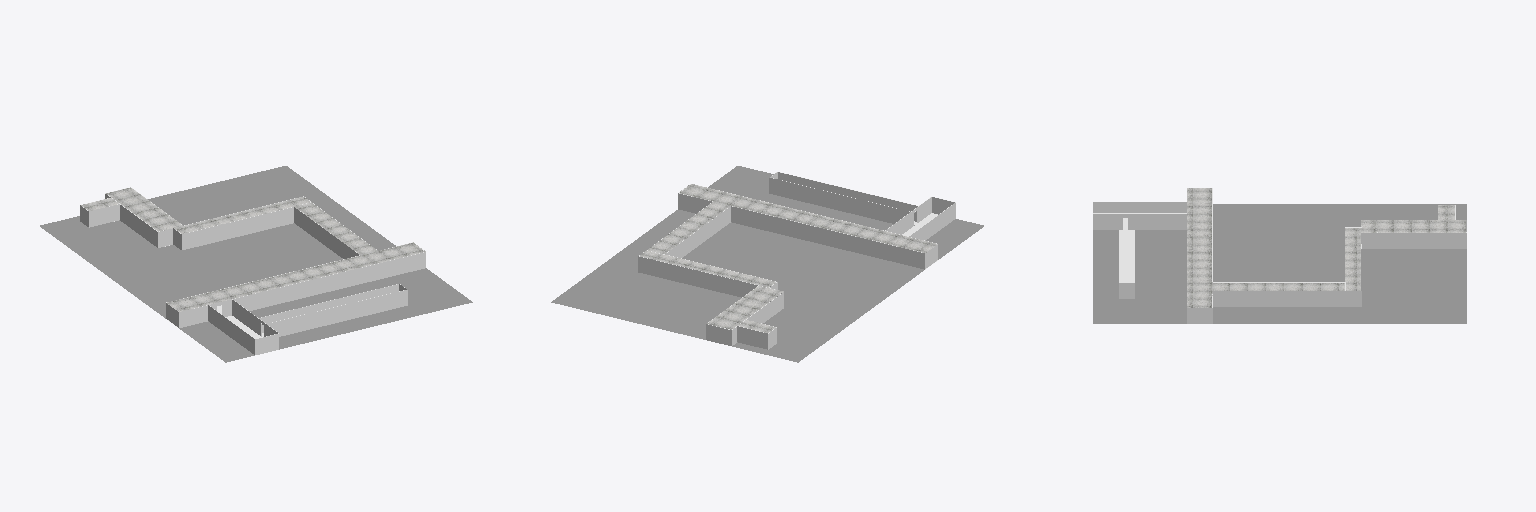
3 renders of one model, left to right at view 1: azimuth 30°, elevation 25°; view 2: azimuth 150°, elevation 25°; view 3: azimuth 270°, elevation 25°, orthographic.
Visible parts, largest first — view 1: ground_1, wall_9_52, room_34_185, wall_29_172, wall_17_101, room_30_177, room_33_183, wall_27_161, room_32_181, wall_6_34, wall_24_143, wall_4_22 (+1 smaller); view 2: ground_1, wall_19_113, room_34_185, wall_27_160, wall_14_82, room_30_177, room_33_183, wall_29_173, room_32_181, wall_6_34, wall_24_143, wall_26_154 (+1 smaller); view 3: ground_1, room_34_185, wall_2_10, wall_5_28, wall_26_155, room_30_177, room_33_183, wall_24_142, room_32_181, room_36_187.
Boxes of the visible parts, x1=… form: ground_1: x1=40, y1=166, x2=472, y2=362; wall_9_52: x1=179, y1=259, x2=395, y2=327; room_34_185: x1=167, y1=242, x2=425, y2=311; wall_29_172: x1=267, y1=290, x2=407, y2=336; wall_17_101: x1=182, y1=207, x2=293, y2=249; room_30_177: x1=106, y1=188, x2=182, y2=231; room_33_183: x1=294, y1=202, x2=377, y2=254; wall_27_161: x1=259, y1=284, x2=398, y2=332; room_32_181: x1=174, y1=197, x2=309, y2=233; wall_6_34: x1=294, y1=207, x2=358, y2=258; wall_24_143: x1=208, y1=305, x2=254, y2=354; wall_4_22: x1=105, y1=194, x2=157, y2=247; ground_1: x1=551, y1=166, x2=983, y2=362; wall_19_113: x1=731, y1=206, x2=924, y2=269; room_34_185: x1=680, y1=184, x2=937, y2=252; wall_27_160: x1=769, y1=178, x2=909, y2=223; wall_14_82: x1=638, y1=256, x2=757, y2=297; room_30_177: x1=707, y1=286, x2=783, y2=329; room_33_183: x1=646, y1=202, x2=729, y2=254; wall_29_173: x1=778, y1=172, x2=917, y2=221; room_32_181: x1=640, y1=251, x2=775, y2=287; wall_6_34: x1=665, y1=206, x2=730, y2=257; wall_24_143: x1=909, y1=203, x2=955, y2=240; wall_26_154: x1=886, y1=197, x2=931, y2=234; ground_1: x1=1093, y1=204, x2=1466, y2=323; room_34_185: x1=1187, y1=188, x2=1212, y2=307; wall_2_10: x1=1362, y1=233, x2=1466, y2=248; wall_5_28: x1=1213, y1=291, x2=1316, y2=306; wall_26_155: x1=1093, y1=214, x2=1186, y2=229; room_30_177: x1=1361, y1=220, x2=1465, y2=232; room_33_183: x1=1213, y1=283, x2=1344, y2=290; wall_24_142: x1=1093, y1=202, x2=1186, y2=217; room_32_181: x1=1345, y1=228, x2=1360, y2=290; room_36_187: x1=1119, y1=230, x2=1134, y2=281.
Bounding box in the file's own units: 4000 × 250 × 5236.
Materials: 7 (1 with a texture image).